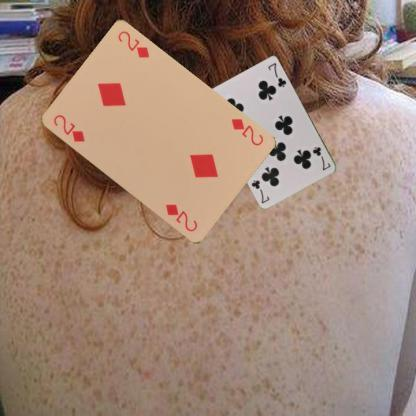2d: (228, 115, 265, 148), (50, 111, 86, 144)
7c: (310, 144, 332, 171)
